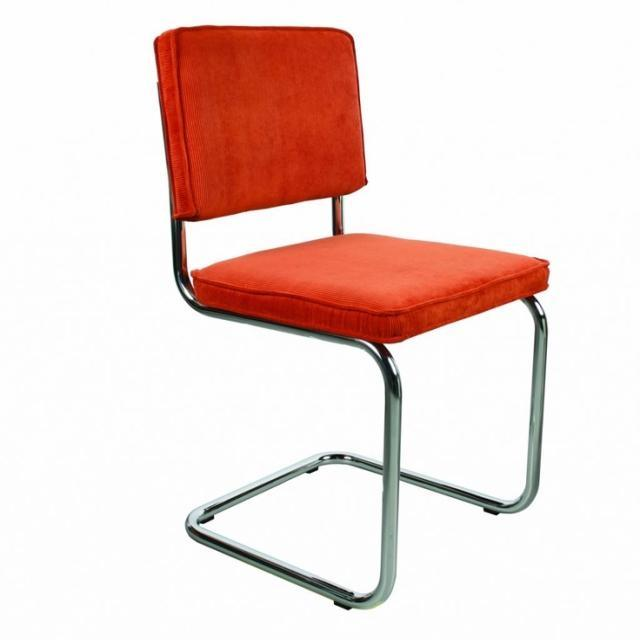obstacle: (152, 24, 551, 610)
